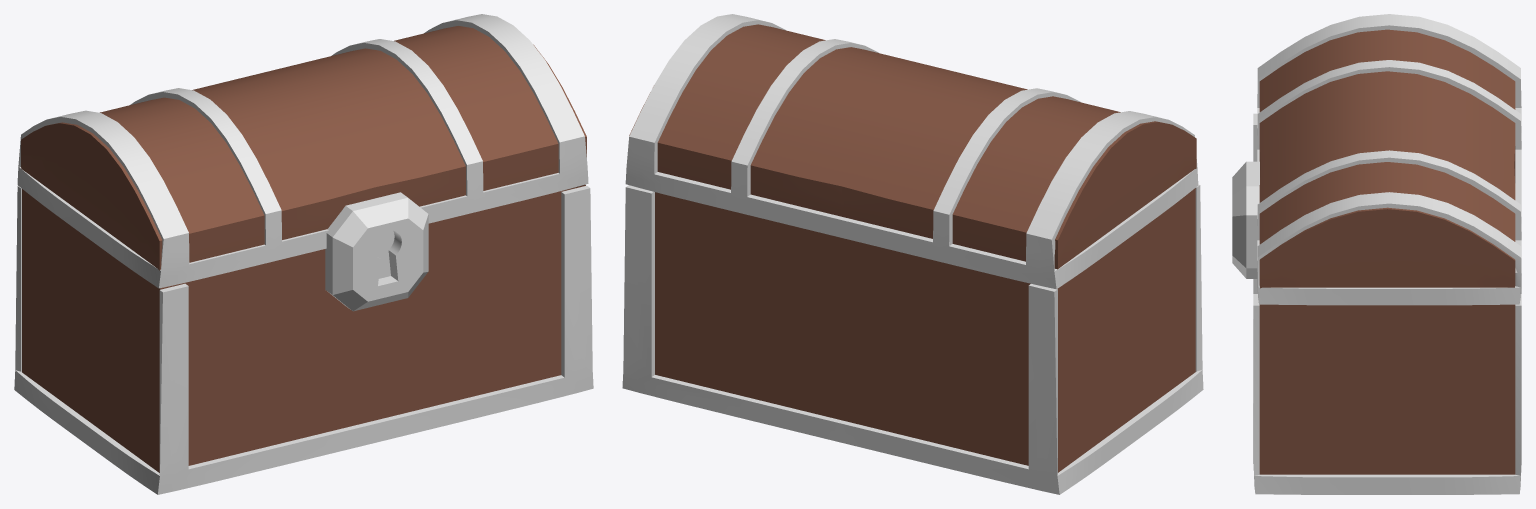
The model's file is Chest.fbx.
3 views of the same model, side by side, from view 1: azimuth 30°, elevation 25°; view 2: azimuth 150°, elevation 25°; view 3: azimuth 270°, elevation 25° (orthographic). The views are drawn at different scales.
Parts seen in each view (by area): view 1: Cube, Cube.002; view 2: Cube, Cube.002; view 3: Cube.002, Cube.
Part boxes in pixels (x1,y1,x2,y2): Cube: (14,184,593,494); Cube.002: (17,14,588,311); Cube: (622,184,1203,494); Cube.002: (625,14,1198,289); Cube.002: (1232,14,1521,305); Cube: (1253,113,1521,494).
Size of the model in its own units: 366 by 249 by 227.
